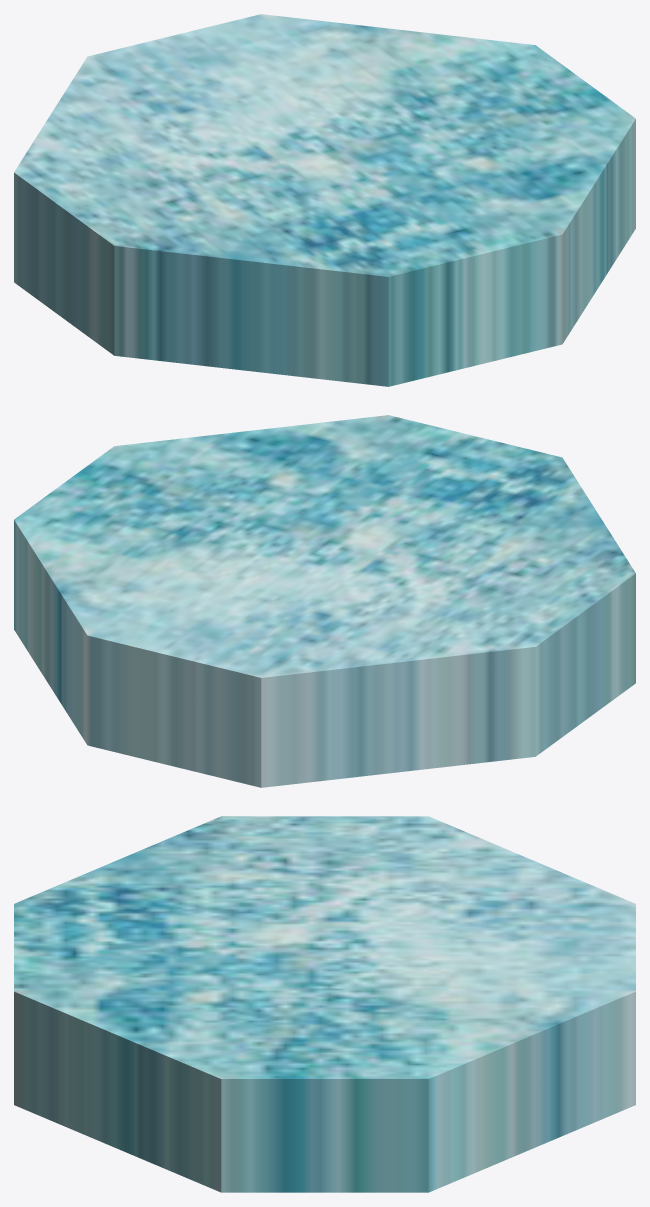
The model's file is Inner.FBX.
The picture shows the model from 3 angles, top to bottom: view 1: azimuth 30°, elevation 25°; view 2: azimuth 150°, elevation 25°; view 3: azimuth 270°, elevation 25°; orthographic projection. The views are drawn at different scales.
Parts seen in each view (by area): view 1: PlaneHexagonInnerCollider; view 2: PlaneHexagonInnerCollider; view 3: PlaneHexagonInnerCollider.
Boxes of the visible parts, bbox=[...] form: PlaneHexagonInnerCollider: bbox=[14, 14, 635, 386]; PlaneHexagonInnerCollider: bbox=[14, 415, 635, 787]; PlaneHexagonInnerCollider: bbox=[14, 816, 635, 1192].
Bounding box in the file's own units: 49.65 × 10 × 49.65.
1 material, 1 textured.
